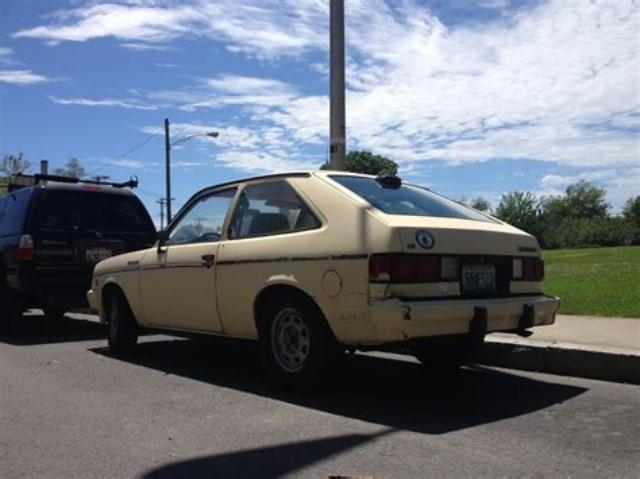chevette-1983: (86, 171, 559, 385)
